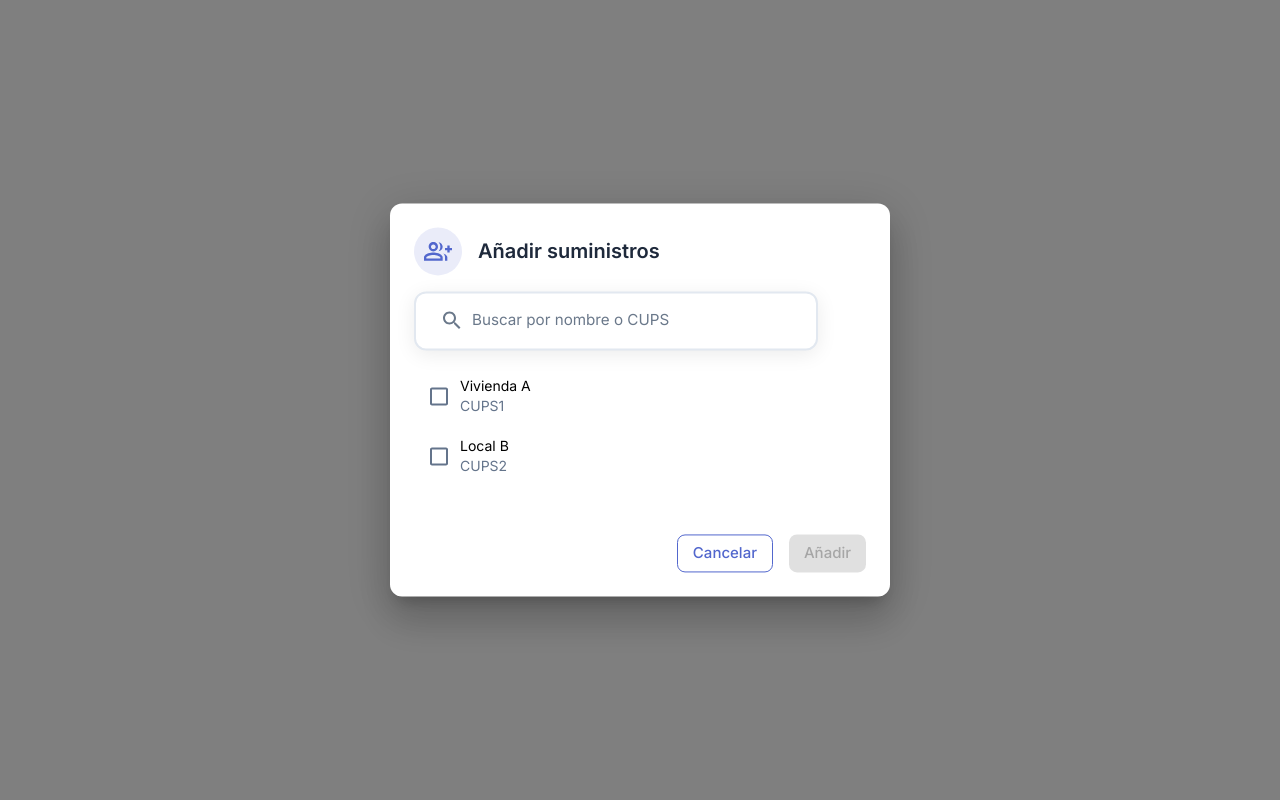
AddSupplyDialog › filters the loaded list client-side as the user types
Expected: the text "Vivienda A" is shown, 460,377 -> 531,394
Type "Local" into the search field with placeholder "Buscar por nombre o CUPS" at (636, 321), box 472,305 -> 800,336
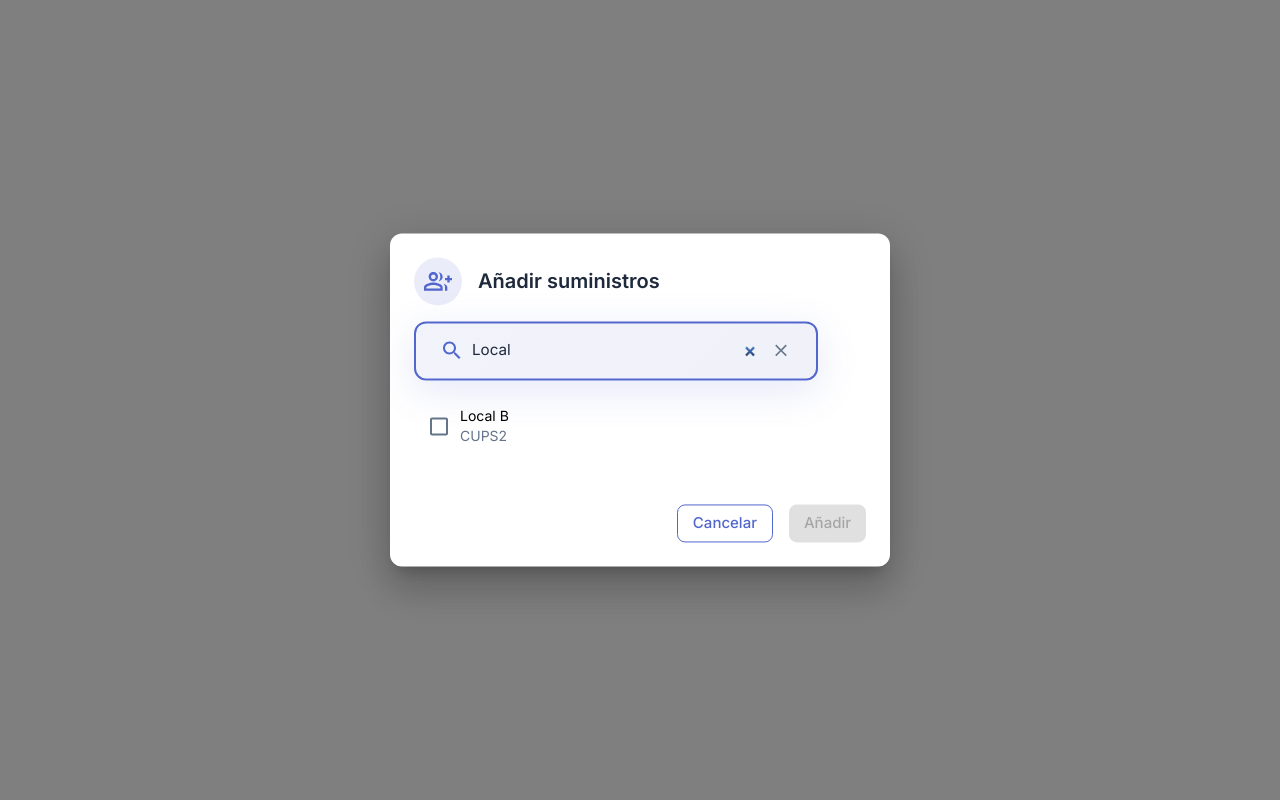
Expected: the text "Local B" is shown, 460,407 -> 509,424
Expected: the button "Vivienda A" is gone
